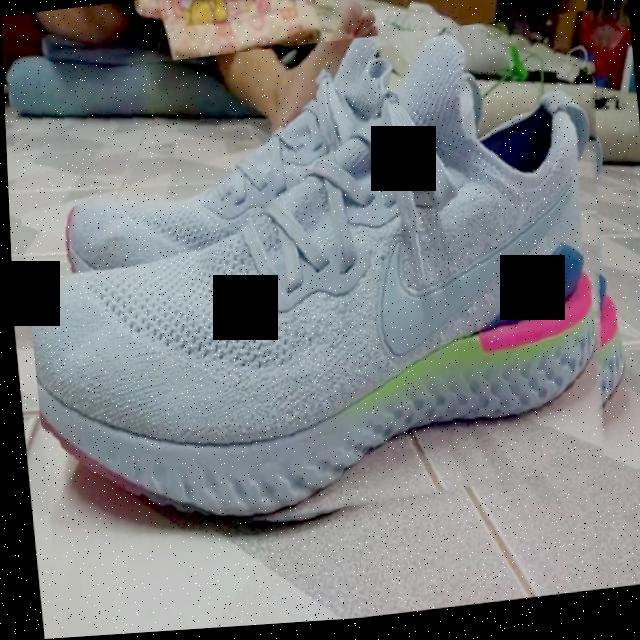shoe: (6, 17, 638, 558)
